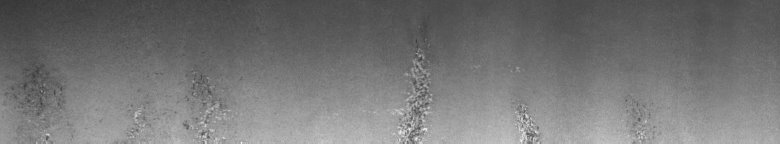hc: (388, 22, 541, 136)
